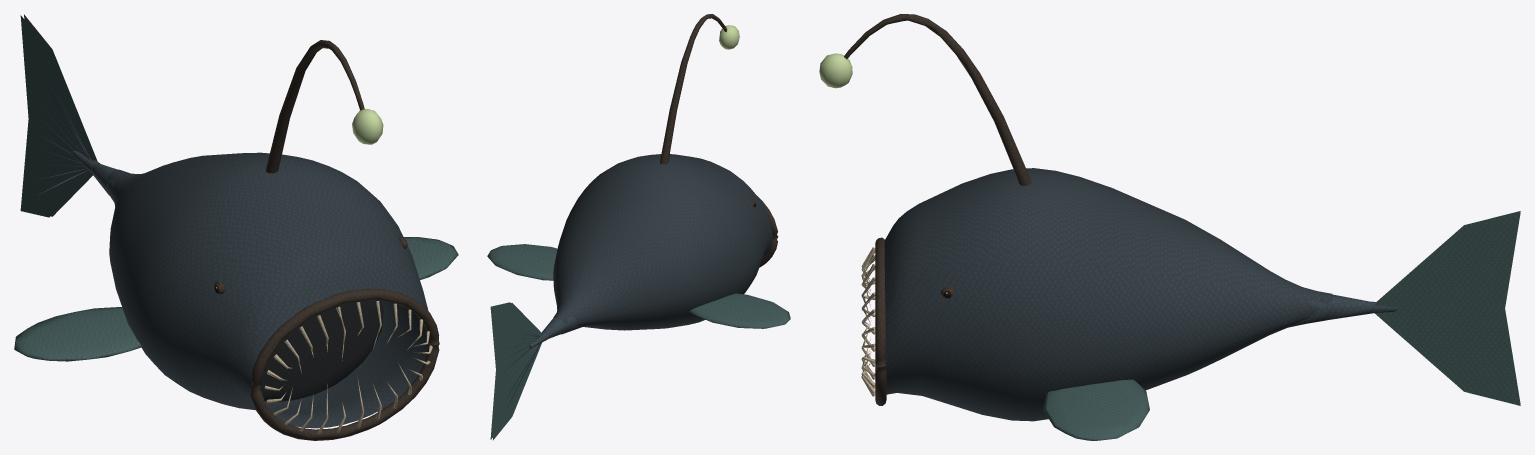
Rendered from lantern-anglerfish.glb.
3 renders of one model, left to right at view 1: azimuth 30°, elevation 25°; view 2: azimuth 150°, elevation 25°; view 3: azimuth 270°, elevation 25°, orthographic. The views are drawn at different scales.
Visible parts, largest first — view 1: lantern-anglerfish__body_mesh.001, lantern-anglerfish__caudal_fin.001, lantern-anglerfish__pectoral_fin.001, lantern-anglerfish__lure.002, lantern-anglerfish__pectoral_fin.004; view 2: lantern-anglerfish__body_mesh.001, lantern-anglerfish__caudal_fin.001, lantern-anglerfish__pectoral_fin.001, lantern-anglerfish__pectoral_fin.004, lantern-anglerfish__lure.002, lantern-anglerfish__tail_surface_1.002; view 3: lantern-anglerfish__body_mesh.001, lantern-anglerfish__caudal_fin.001, lantern-anglerfish__pectoral_fin.004, lantern-anglerfish__lure.002, lantern-anglerfish__tail_surface_1.002.
Part boxes in pixels (left/top/right/bottom): lantern-anglerfish__body_mesh.001: left=108, top=152, right=439, bottom=440; lantern-anglerfish__caudal_fin.001: left=20, top=14, right=97, bottom=217; lantern-anglerfish__pectoral_fin.001: left=14, top=307, right=141, bottom=361; lantern-anglerfish__lure.002: left=265, top=40, right=383, bottom=173; lantern-anglerfish__pectoral_fin.004: left=403, top=237, right=458, bottom=279; lantern-anglerfish__body_mesh.001: left=553, top=154, right=778, bottom=330; lantern-anglerfish__caudal_fin.001: left=490, top=302, right=542, bottom=440; lantern-anglerfish__pectoral_fin.001: left=689, top=293, right=790, bottom=328; lantern-anglerfish__pectoral_fin.004: left=487, top=244, right=557, bottom=280; lantern-anglerfish__lure.002: left=660, top=14, right=739, bottom=164; lantern-anglerfish__tail_surface_1.002: left=541, top=317, right=568, bottom=338; lantern-anglerfish__body_mesh.001: left=861, top=168, right=1332, bottom=421; lantern-anglerfish__caudal_fin.001: left=1374, top=211, right=1520, bottom=405; lantern-anglerfish__pectoral_fin.004: left=1043, top=379, right=1149, bottom=440; lantern-anglerfish__lure.002: left=819, top=14, right=1031, bottom=185; lantern-anglerfish__tail_surface_1.002: left=1326, top=294, right=1369, bottom=320.
Bounding box in the file's own units: 1.58 × 1.37 × 2.23.
Materials: 2 (1 with a texture image).
